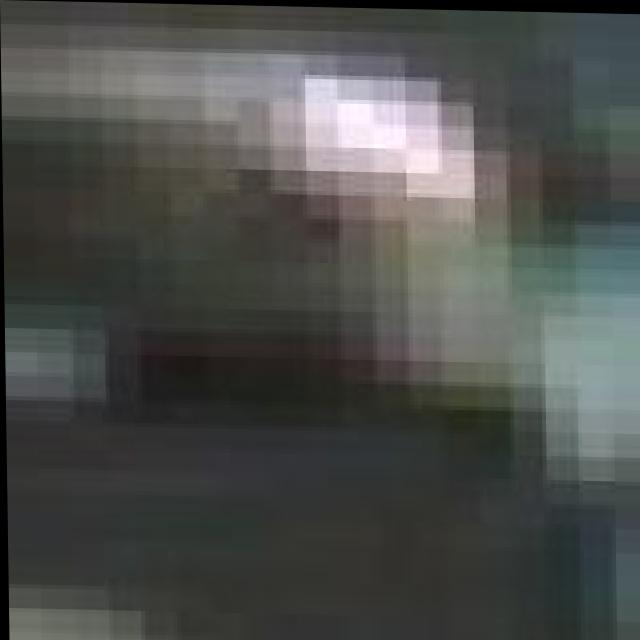inductor: (1, 88, 555, 640)
